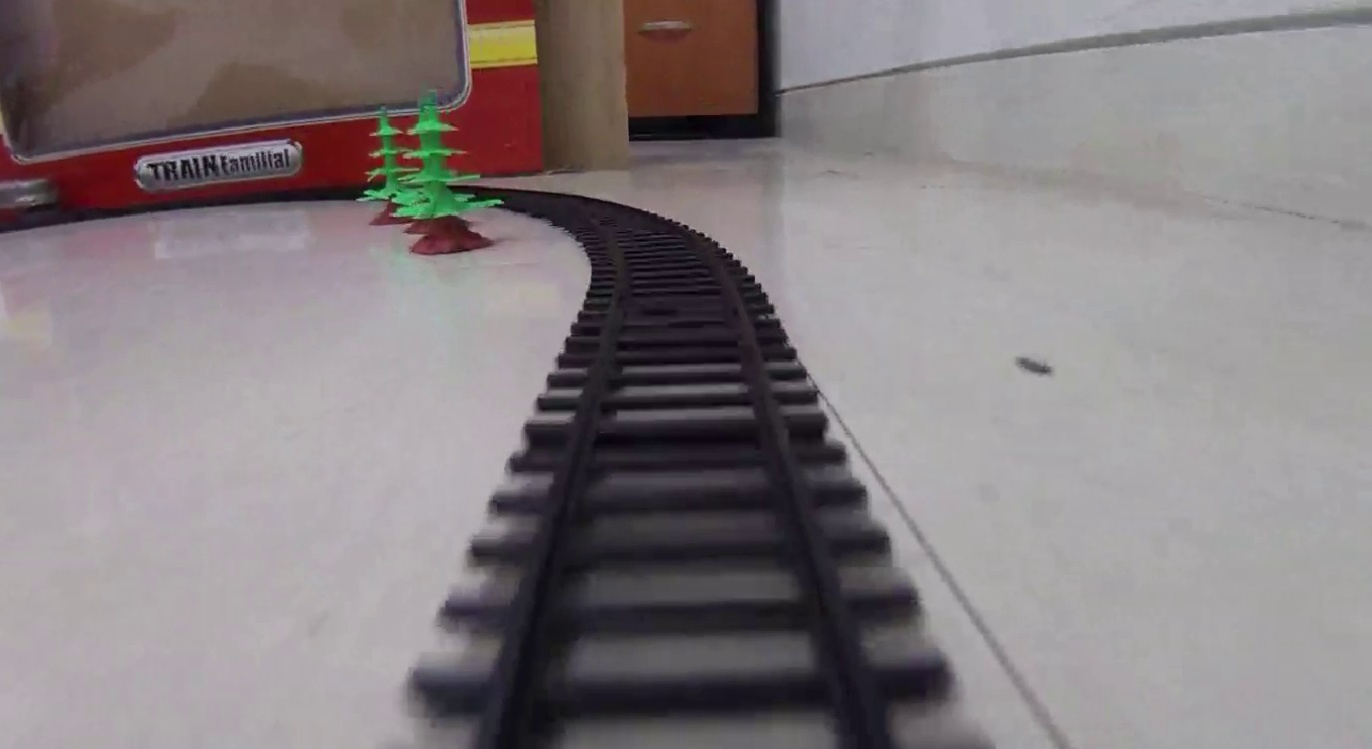tree: (409, 86, 492, 255), (361, 109, 421, 223)
